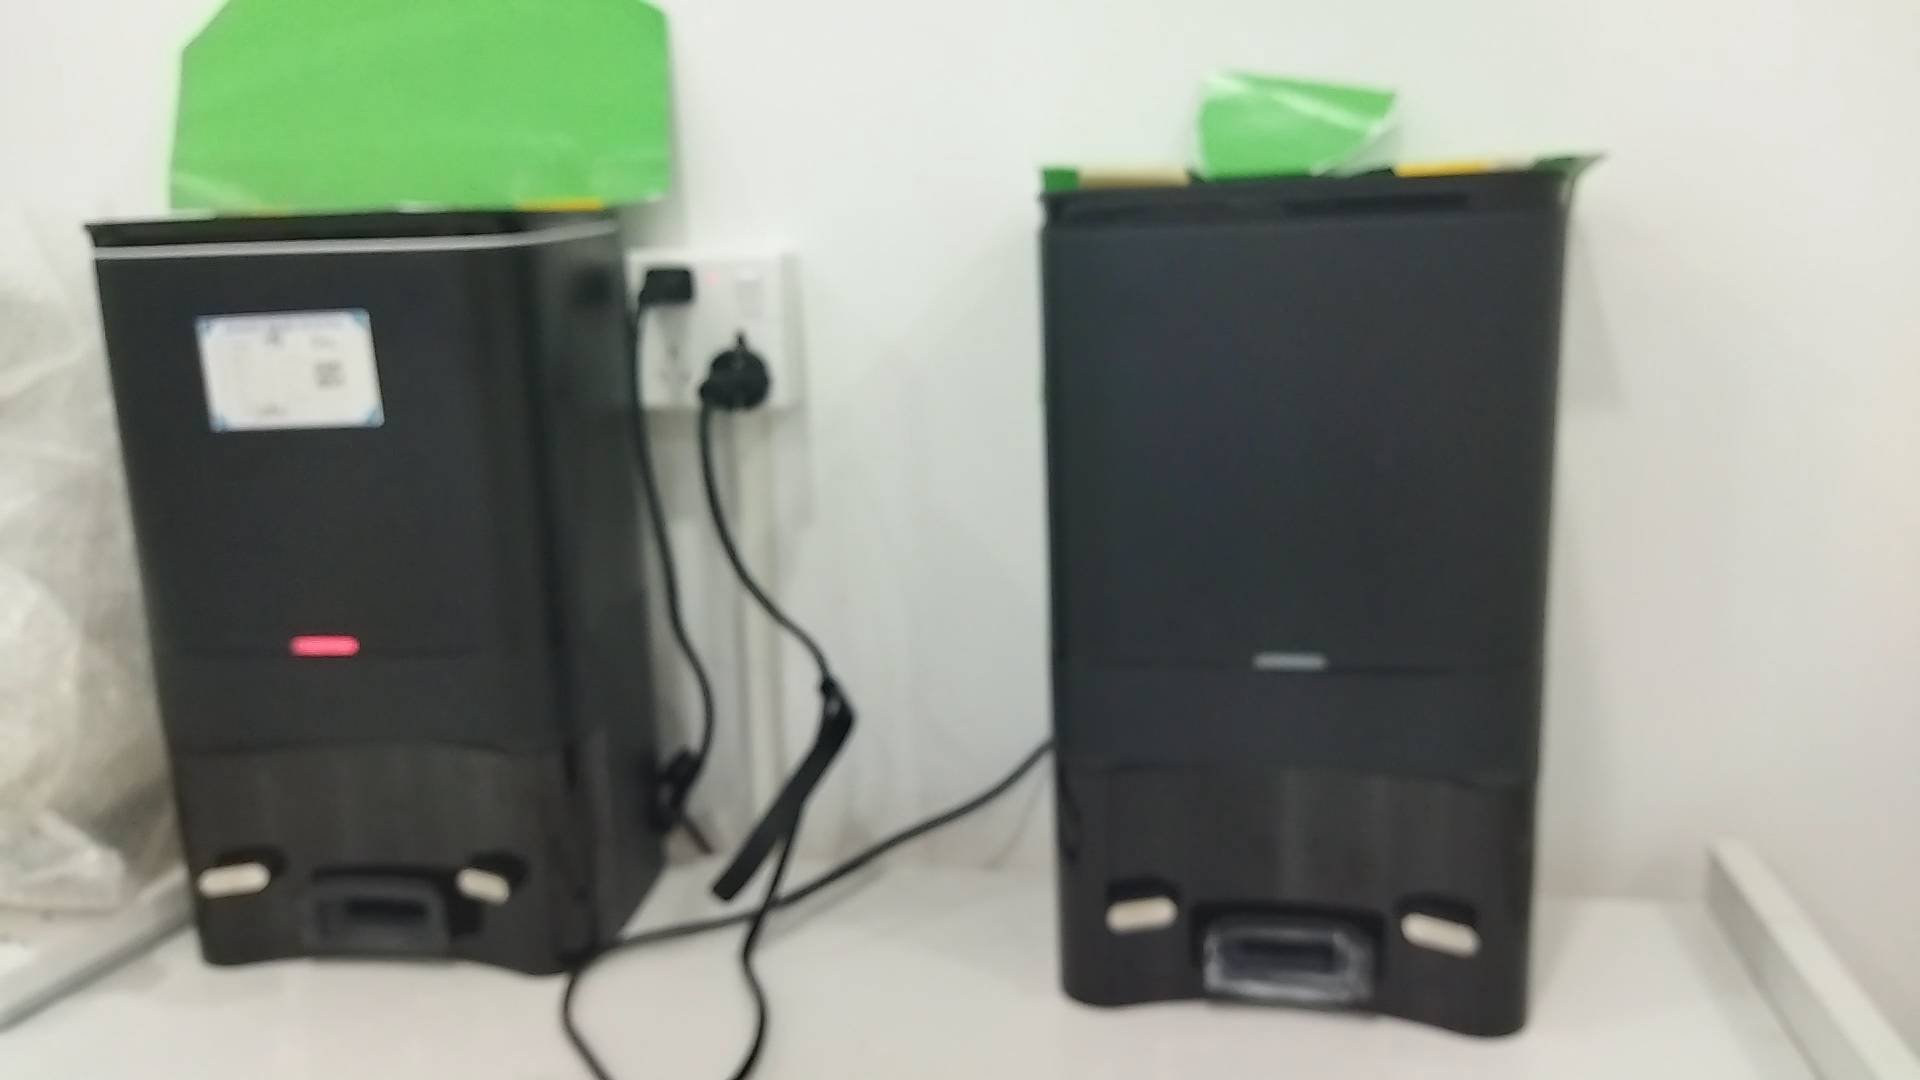dust collecting barrel: (1033, 171, 1567, 1042), (87, 208, 666, 975)
